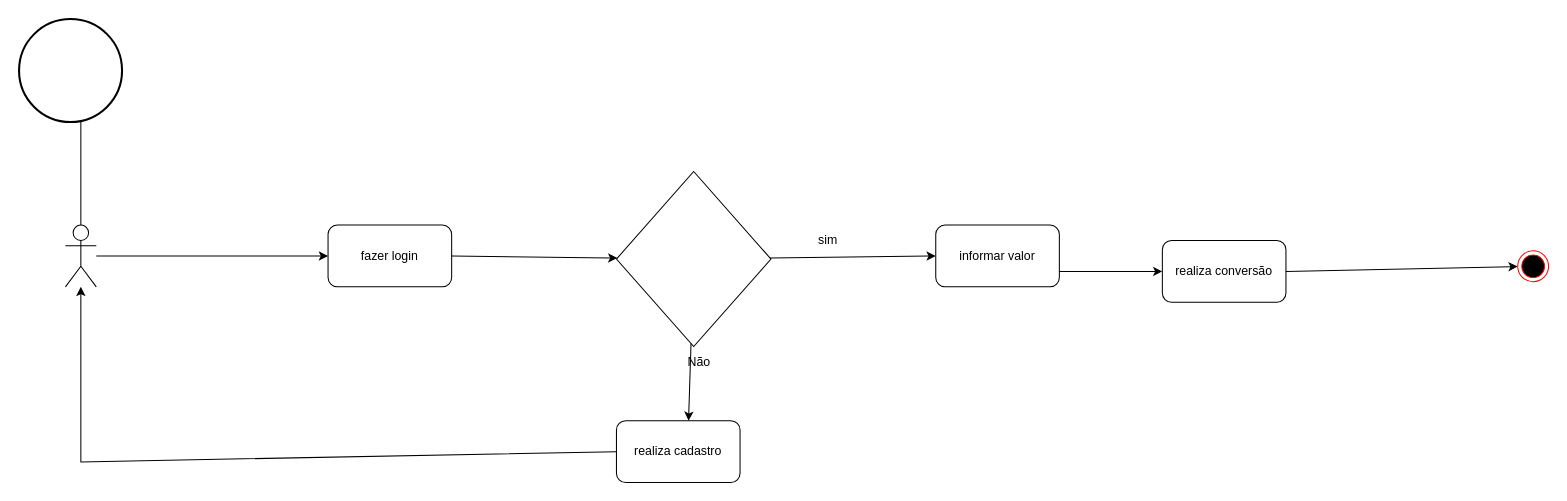
Image size: 1567x501. Some labels were removed from this diagram. The centre of each missing label's shape, as x and y in pixels:
"Actor" goes at pixel 80 255.
"possui cadastro ?" goes at pixel 693 258.
